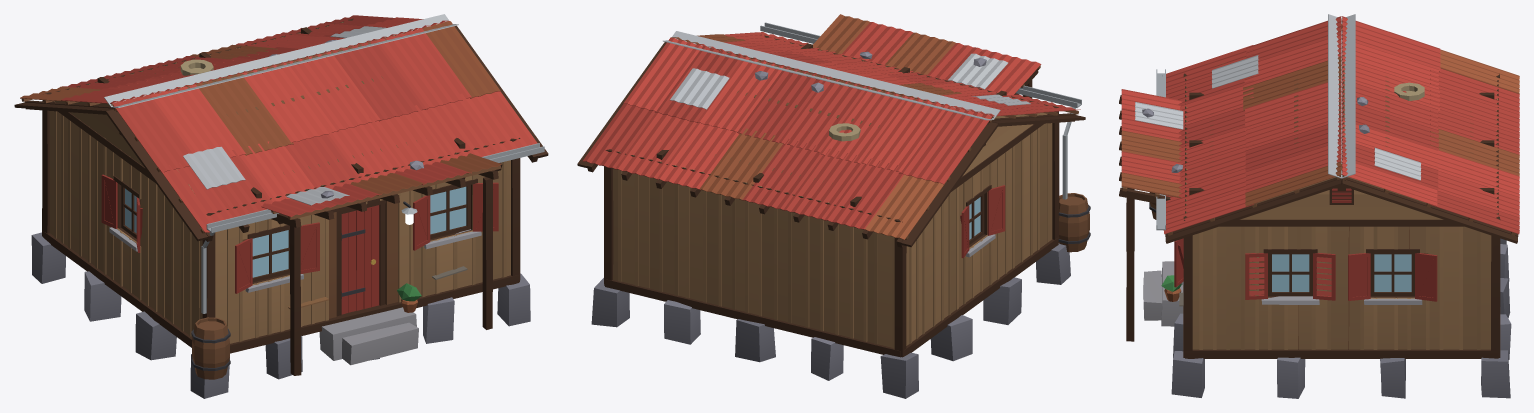
3 views of the same model, side by side, from view 1: azimuth 30°, elevation 25°; view 2: azimuth 150°, elevation 25°; view 3: azimuth 270°, elevation 25° (orthographic). The views are drawn at different scales.
Parts seen in each view (by area): view 1: P07_ROOF, P07_WALL_E, P07_WALL_S, P07_BASE, P07_DOOR_main, P07_WALL_W; view 2: P07_ROOF, P07_WALL_W, P07_WALL_S, P07_BASE, P07_WALL_E; view 3: P07_ROOF, P07_WALL_N, P07_BASE, P07_WALL_E, P07_WALL_W.
Boxes of the visible parts, <box> form: P07_ROOF: <box>14,14,548,241</box>; P07_WALL_E: <box>191,138,544,379</box>; P07_WALL_S: <box>42,92,208,337</box>; P07_BASE: <box>31,231,530,398</box>; P07_DOOR_main: <box>341,205,379,314</box>; P07_WALL_W: <box>43,18,353,233</box>; P07_ROOF: <box>577,31,1085,247</box>; P07_WALL_W: <box>604,149,902,356</box>; P07_WALL_S: <box>894,107,1059,357</box>; P07_BASE: <box>591,237,1070,398</box>; P07_WALL_E: <box>760,14,1090,252</box>; P07_ROOF: <box>1163,14,1519,243</box>; P07_WALL_N: <box>1184,164,1499,356</box>; P07_BASE: <box>1143,238,1511,398</box>; P07_WALL_E: <box>1119,69,1187,355</box>; P07_WALL_W: <box>1491,74,1500,356</box>.
Size of the model in its own units: 6.38 by 4.09 by 6.52.
